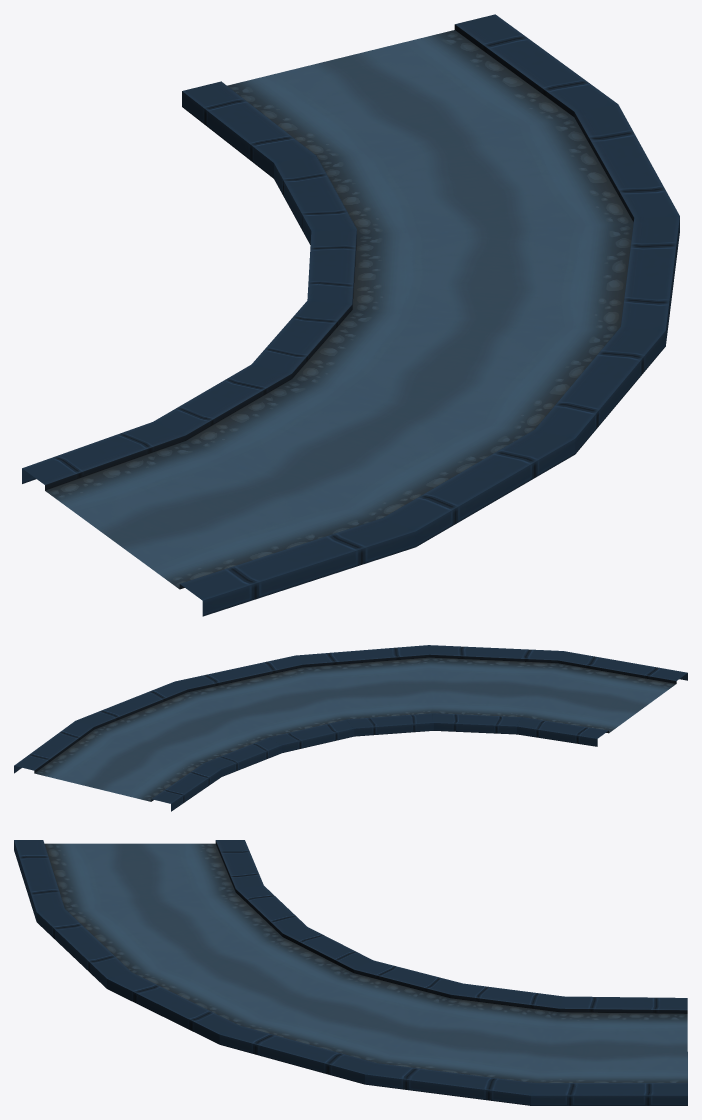
File: RoadPiece_04.FBX
The picture shows the model from 3 angles, top to bottom: view 1: azimuth 30°, elevation 25°; view 2: azimuth 150°, elevation 25°; view 3: azimuth 270°, elevation 25°; orthographic projection. The views are drawn at different scales.
Parts seen in each view (by area): view 1: RoadPiece_04; view 2: RoadPiece_04; view 3: RoadPiece_04.
Part boxes in pixels (box(x1,y1,x2,y2)): RoadPiece_04: box(22, 14, 679, 616); RoadPiece_04: box(14, 645, 687, 811); RoadPiece_04: box(14, 840, 687, 1105).
Size of the model in its own units: 428 by 7.95 by 476.
